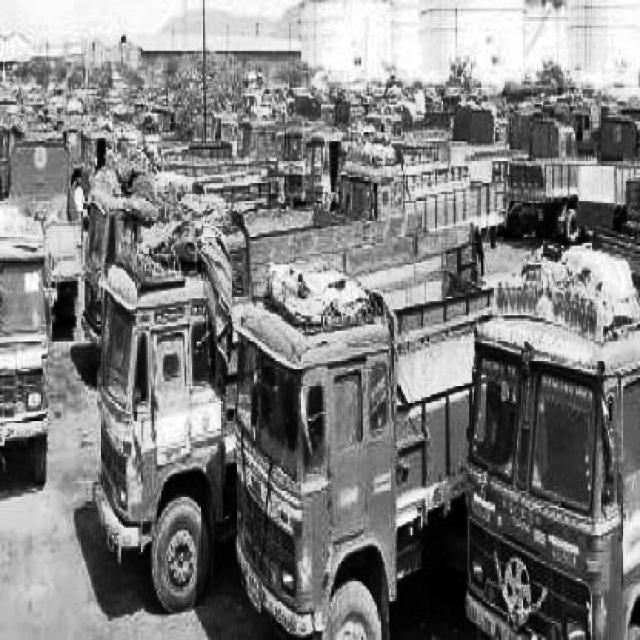HCV: (222, 292, 462, 615), (437, 239, 639, 586), (88, 249, 226, 614)
